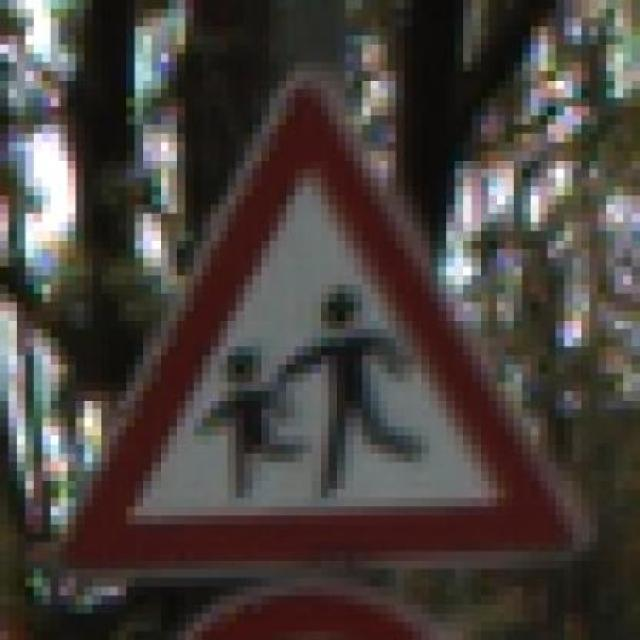Beware of children: (42, 53, 606, 578)
